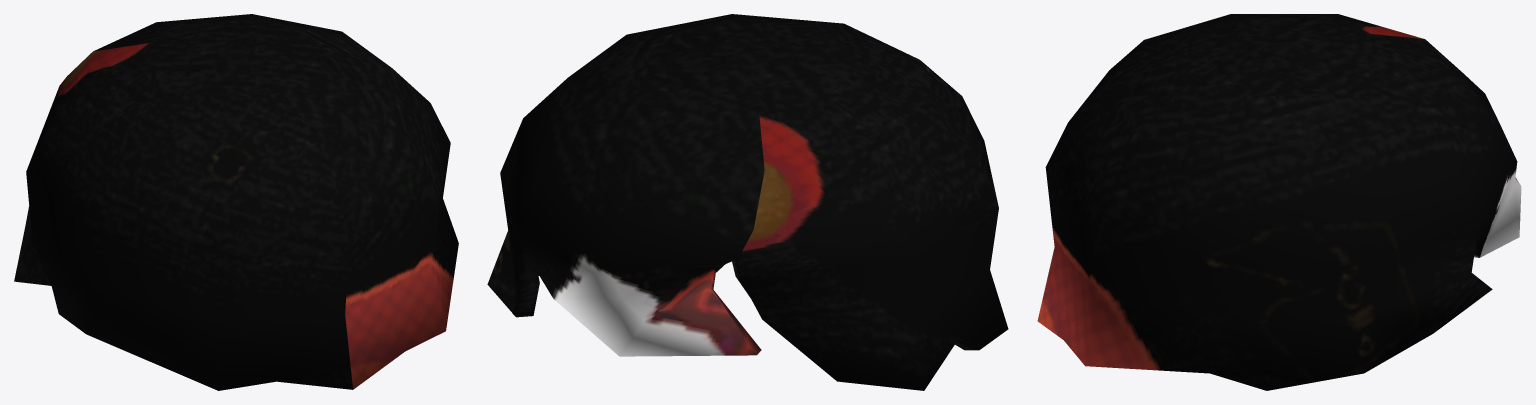
File: MessyHair.obj
The picture shows the model from 3 angles, left to right: view 1: azimuth 30°, elevation 25°; view 2: azimuth 150°, elevation 25°; view 3: azimuth 270°, elevation 25°; orthographic projection. The views are drawn at different scales.
Parts seen in each view (by area): view 1: Handle1; view 2: Handle1; view 3: Handle1.
Part boxes in pixels (x1,y1,x2,y2): Handle1: (14, 14, 458, 390); Handle1: (487, 14, 1008, 390); Handle1: (1037, 14, 1521, 390).
Bounding box in the file's own units: 1.32 × 0.863 × 1.38.
Materials: 1 (1 with a texture image).
